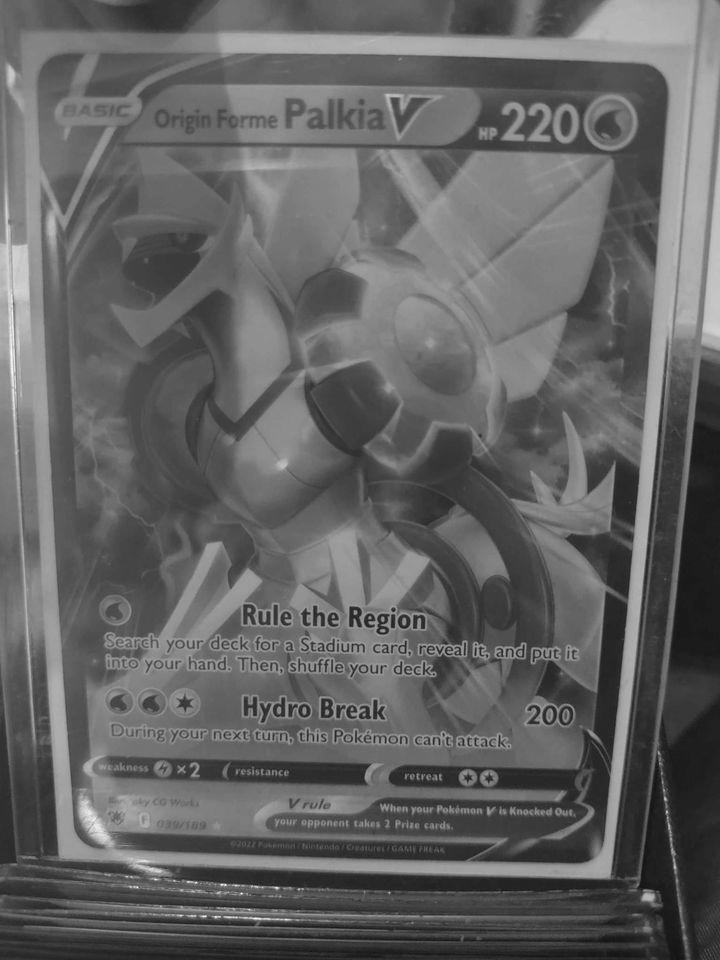card: (34, 48, 678, 868)
